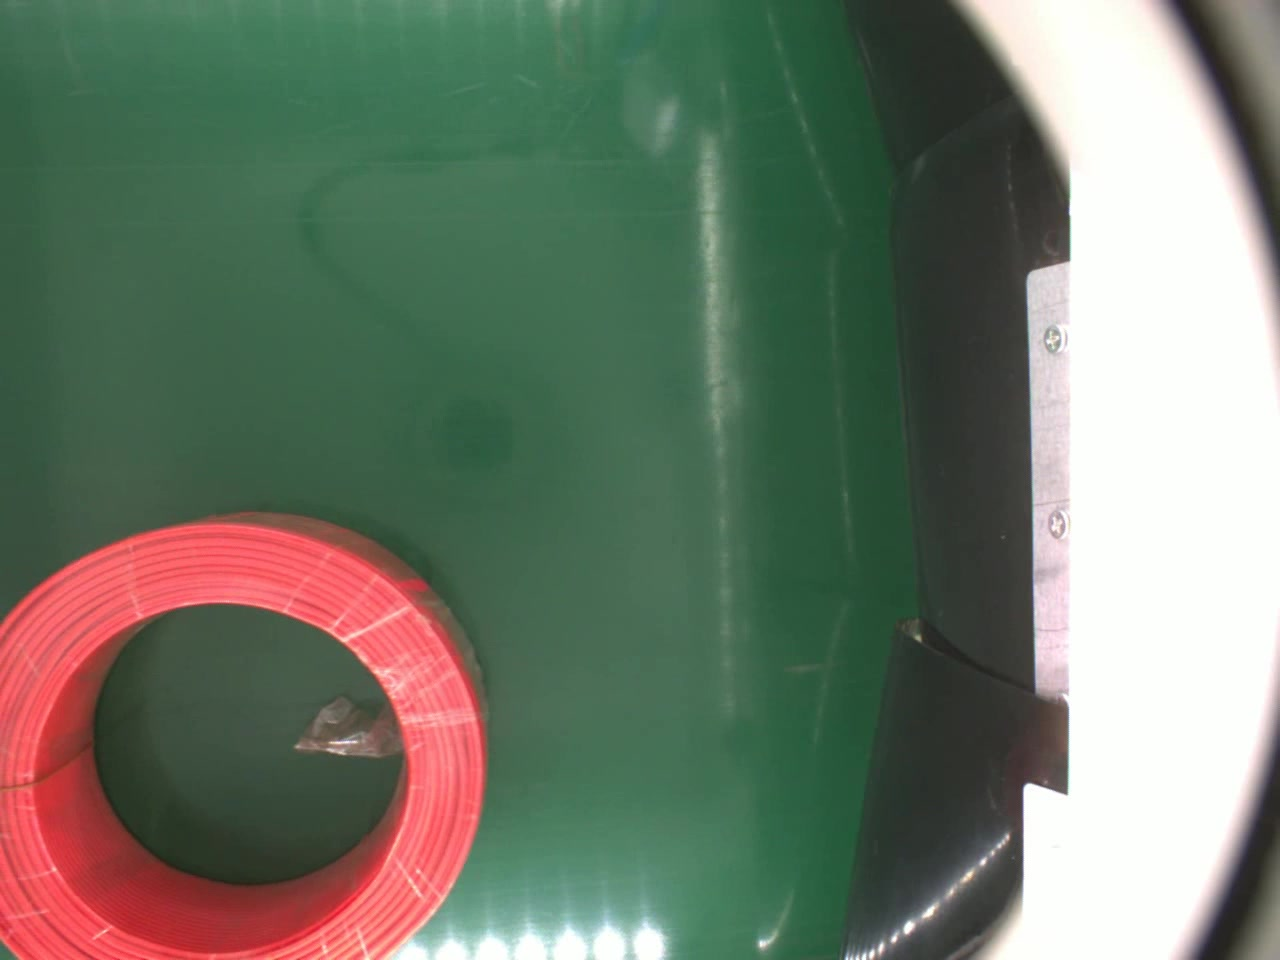red: (0, 512, 494, 960)
